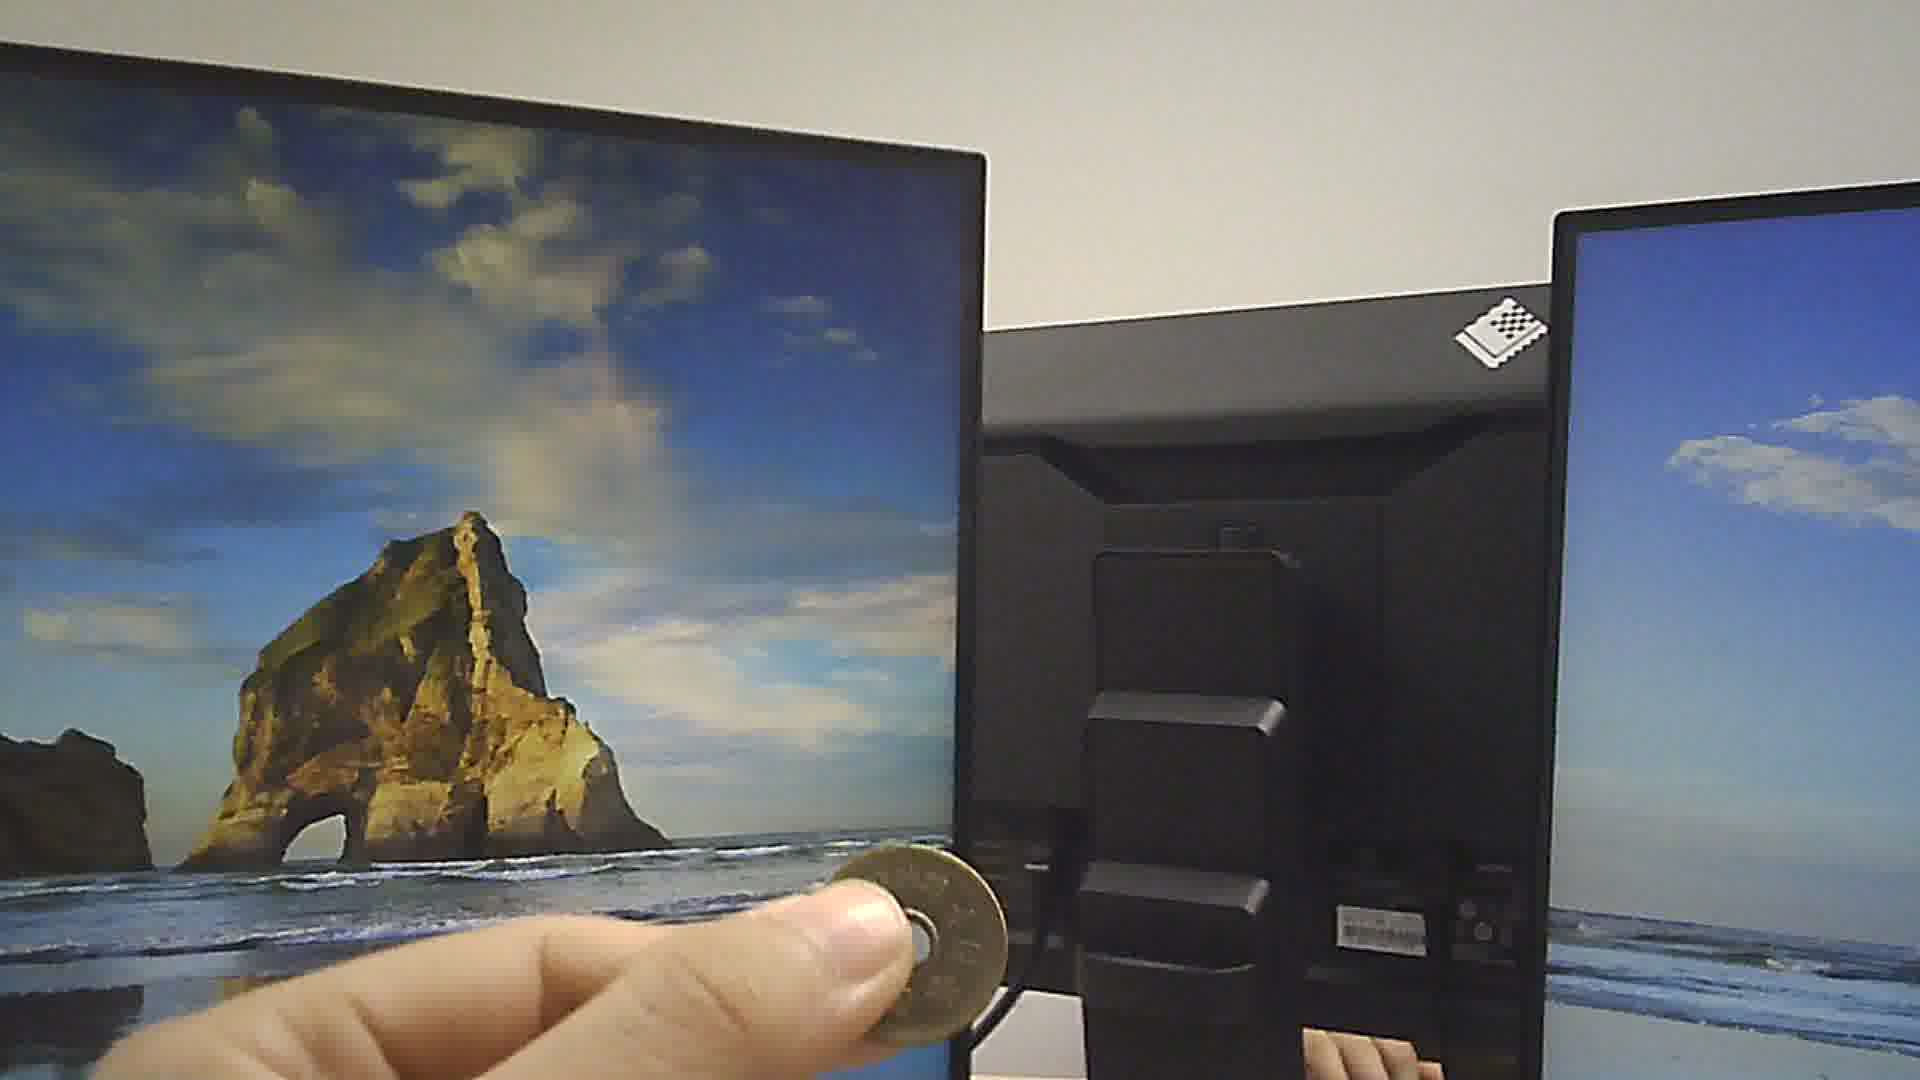5 Yen: (818, 845, 1007, 1052)
